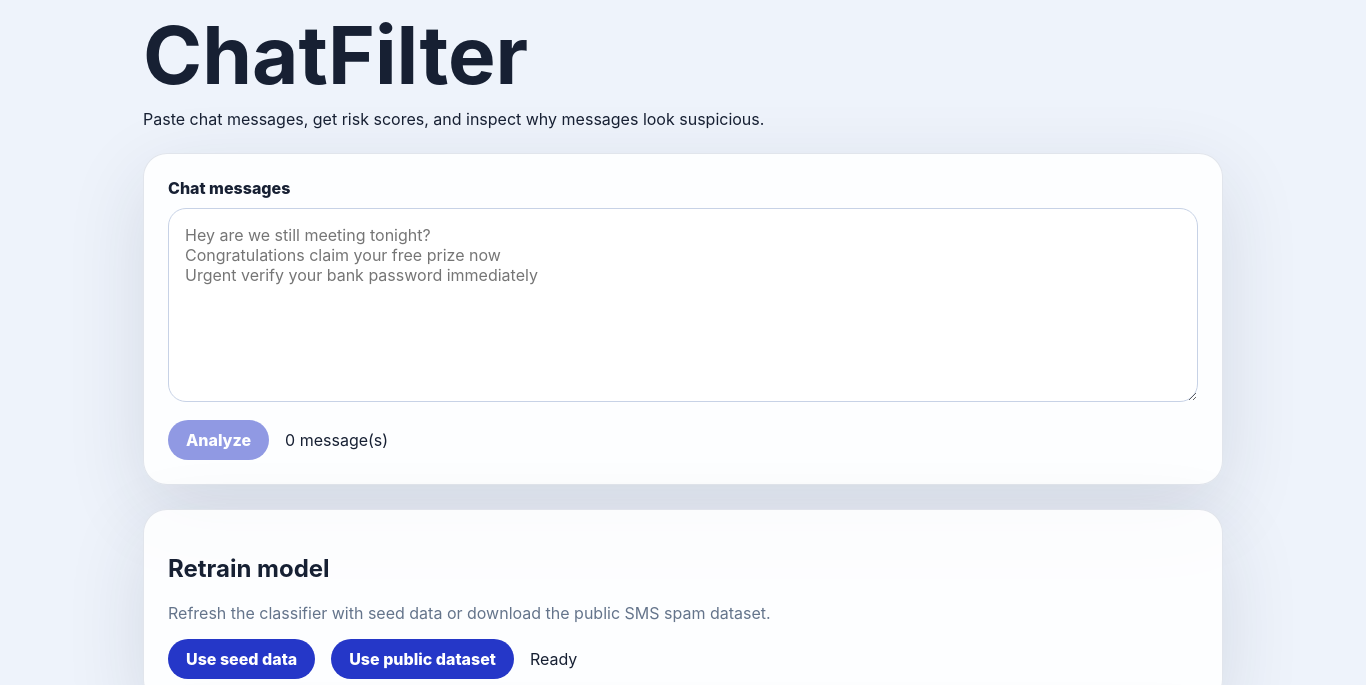
App › retrain button renders metrics
Click the button "Use seed data": coordinates (242, 659) [168,639,315,679]
(page scrolled)
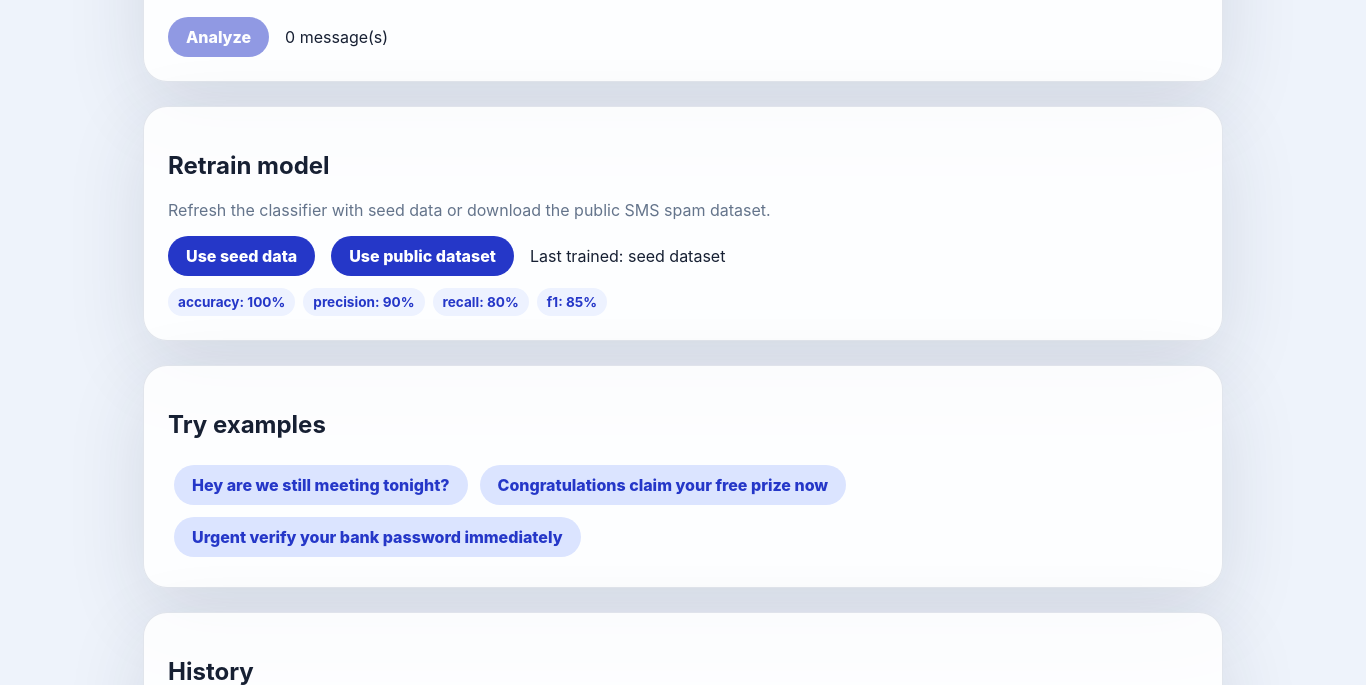
Now the text "Last trained: seed dataset" is shown, box [530,246,725,266]
Now the text "accuracy: 100%" is shown, box [168,288,295,316]
